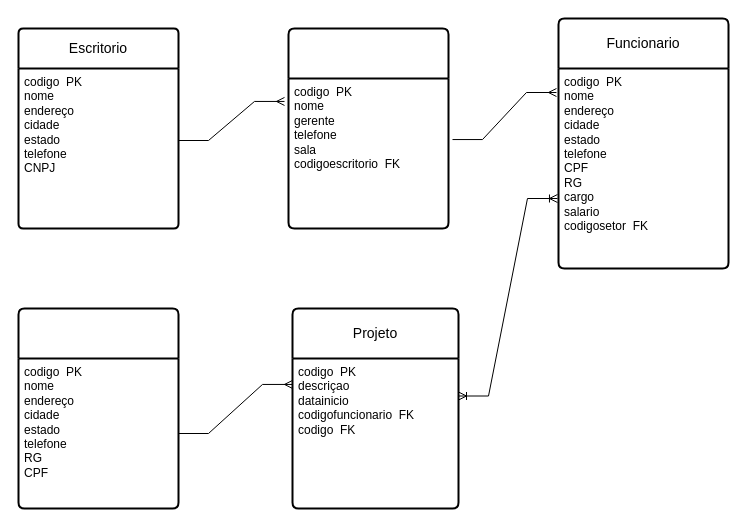
This 746x526 diagram has some shape labels left out. The box of each missing label's shape, as (x1, y1, x2, y2) in pixels:
Cliente: (17, 307, 179, 509)
Setor: (287, 27, 449, 229)
